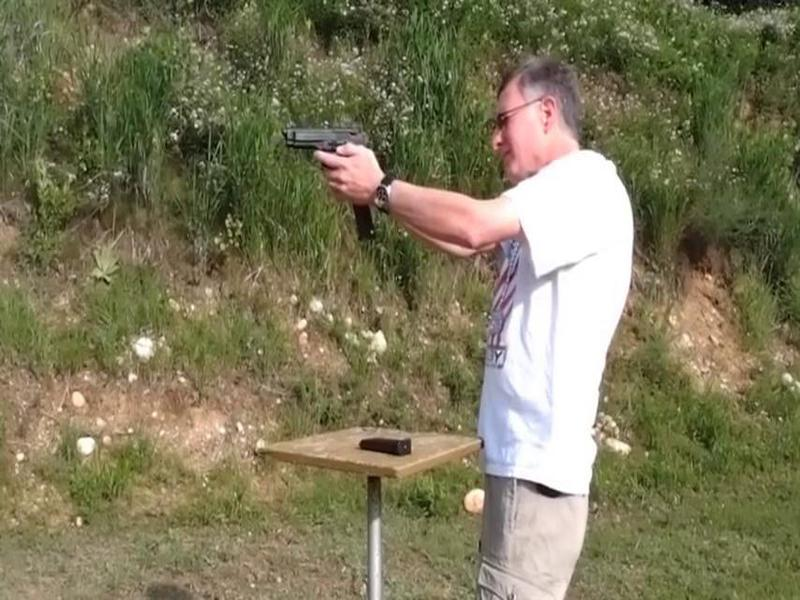Pistola: (261, 107, 377, 212)
